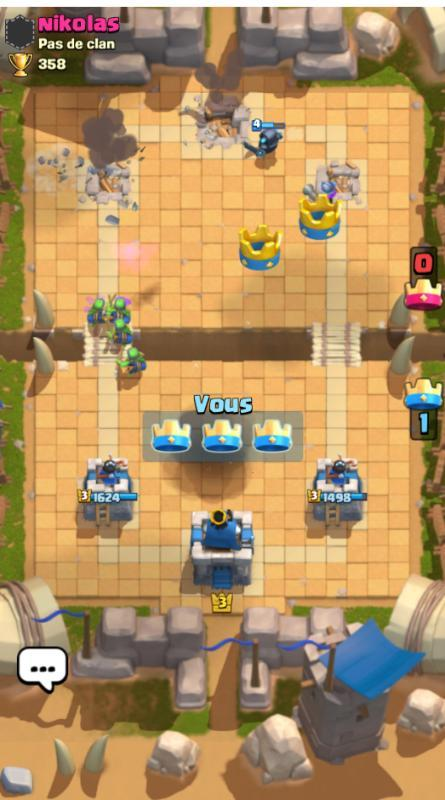player_mini_pekka: (240, 115, 289, 161)
player_spear_goblins: (114, 342, 149, 378), (103, 315, 136, 344), (83, 293, 111, 327), (107, 290, 134, 322)
